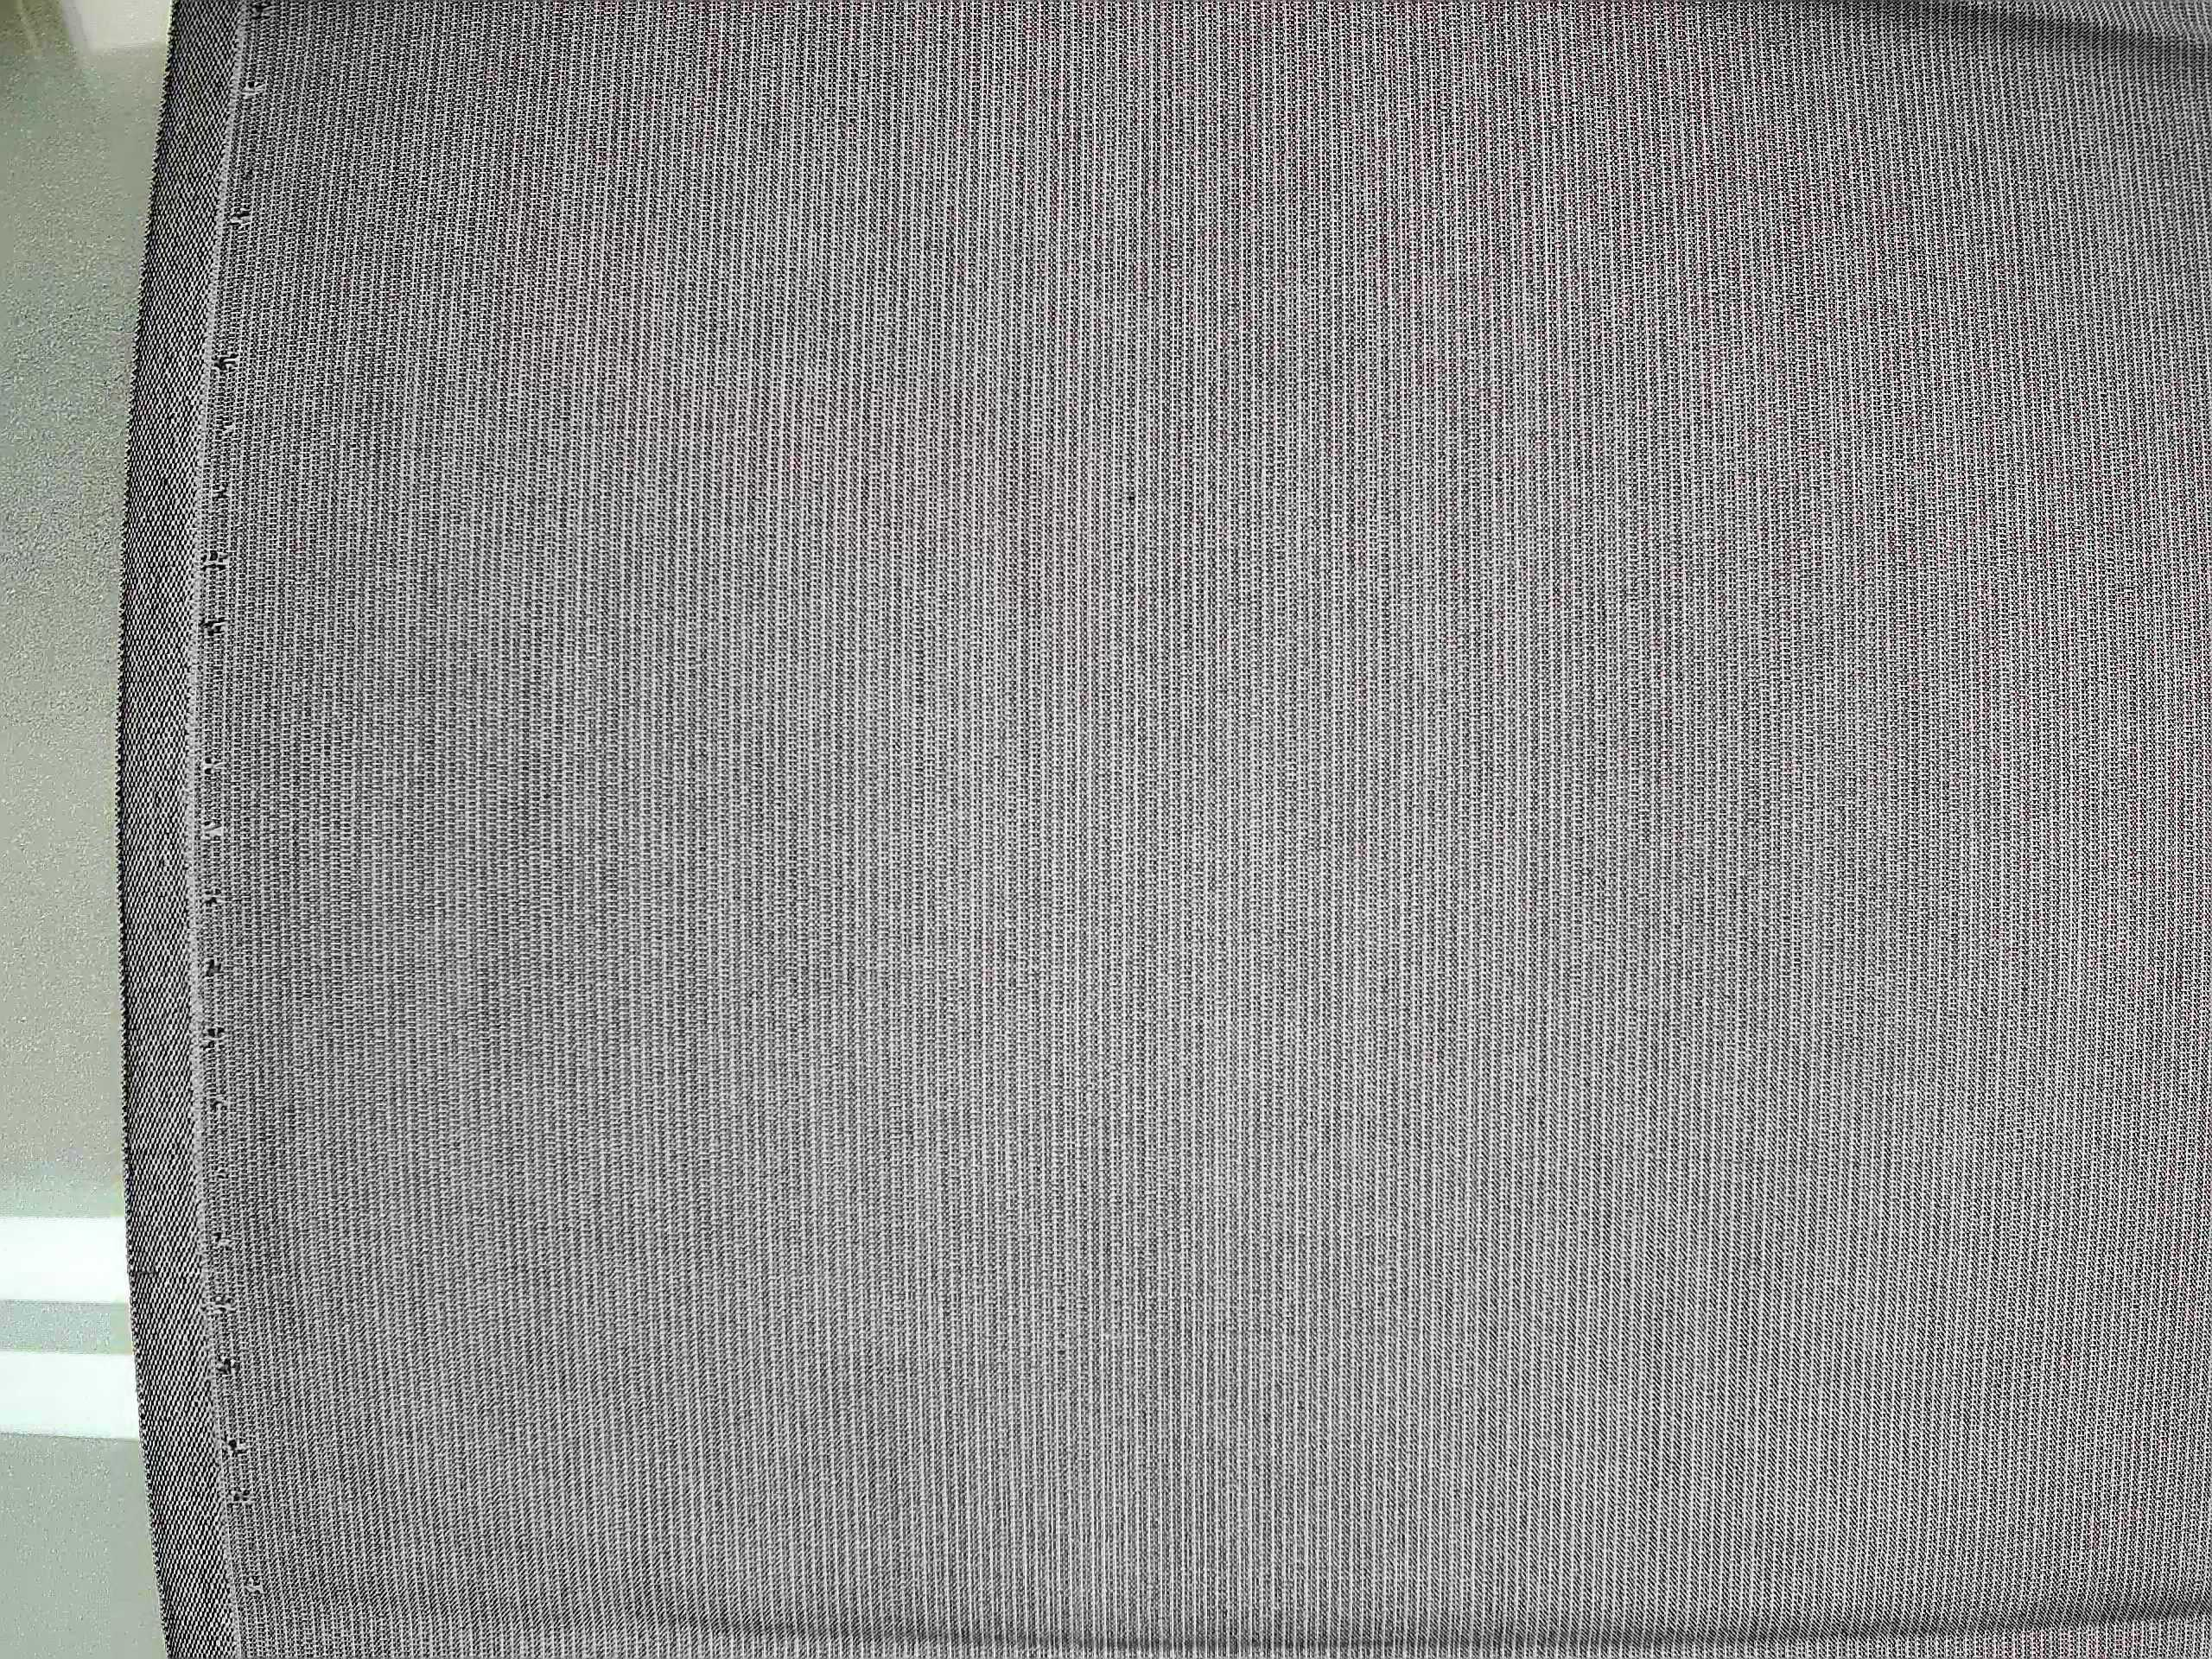puncture-hole: (186, 64, 270, 1262)
